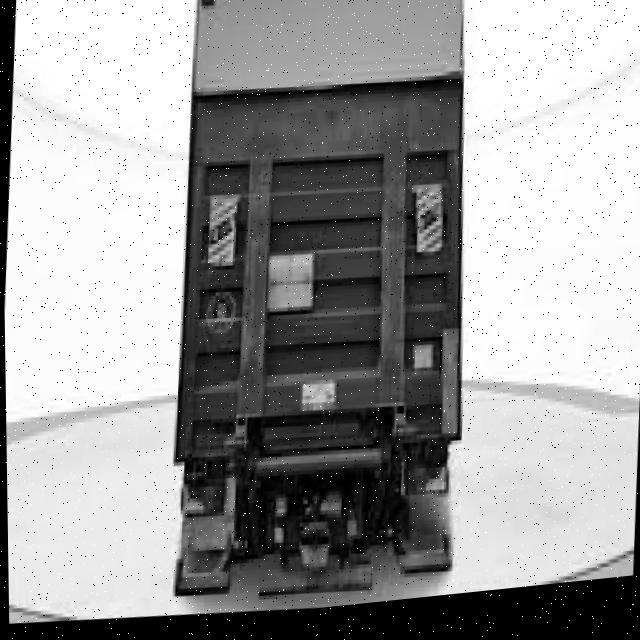truck: (146, 1, 498, 626)
